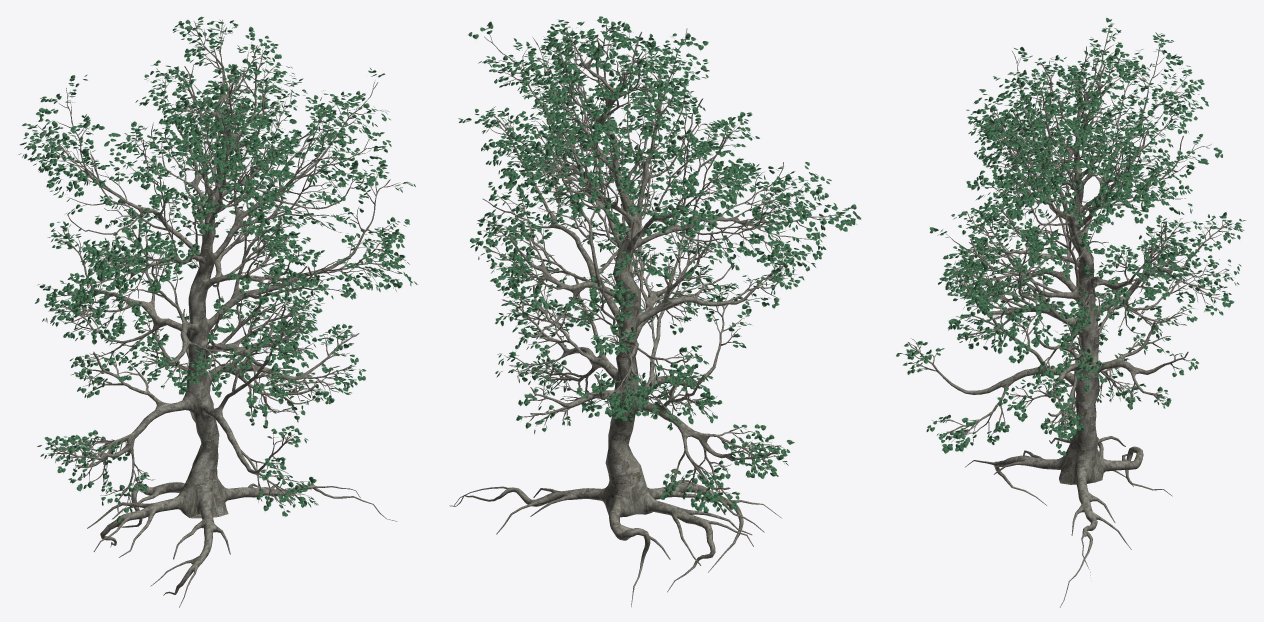
The model's file is bodhi-tree.glb.
3 views of the same model, side by side, from view 1: azimuth 30°, elevation 25°; view 2: azimuth 150°, elevation 25°; view 3: azimuth 270°, elevation 25° (orthographic). The views are drawn at different scales.
Visible parts, largest first — view 1: Bodhi Tree_Bodhi_front_2_Mat_0, Bodhi Tree_Bark_Mat_0; view 2: Bodhi Tree_Bodhi_front_2_Mat_0, Bodhi Tree_Bark_Mat_0; view 3: Bodhi Tree_Bodhi_front_2_Mat_0, Bodhi Tree_Bark_Mat_0.
Part boxes in pixels (x1,y1,x2,y2): Bodhi Tree_Bodhi_front_2_Mat_0: (18, 16, 418, 522); Bodhi Tree_Bark_Mat_0: (37, 20, 405, 607); Bodhi Tree_Bodhi_front_2_Mat_0: (458, 16, 861, 513); Bodhi Tree_Bark_Mat_0: (449, 23, 843, 607); Bodhi Tree_Bodhi_front_2_Mat_0: (896, 17, 1246, 455); Bodhi Tree_Bark_Mat_0: (905, 27, 1233, 607).
Size of the model in its own units: 29.27 by 41.19 by 25.9.
Materials: 2 (2 with a texture image).
